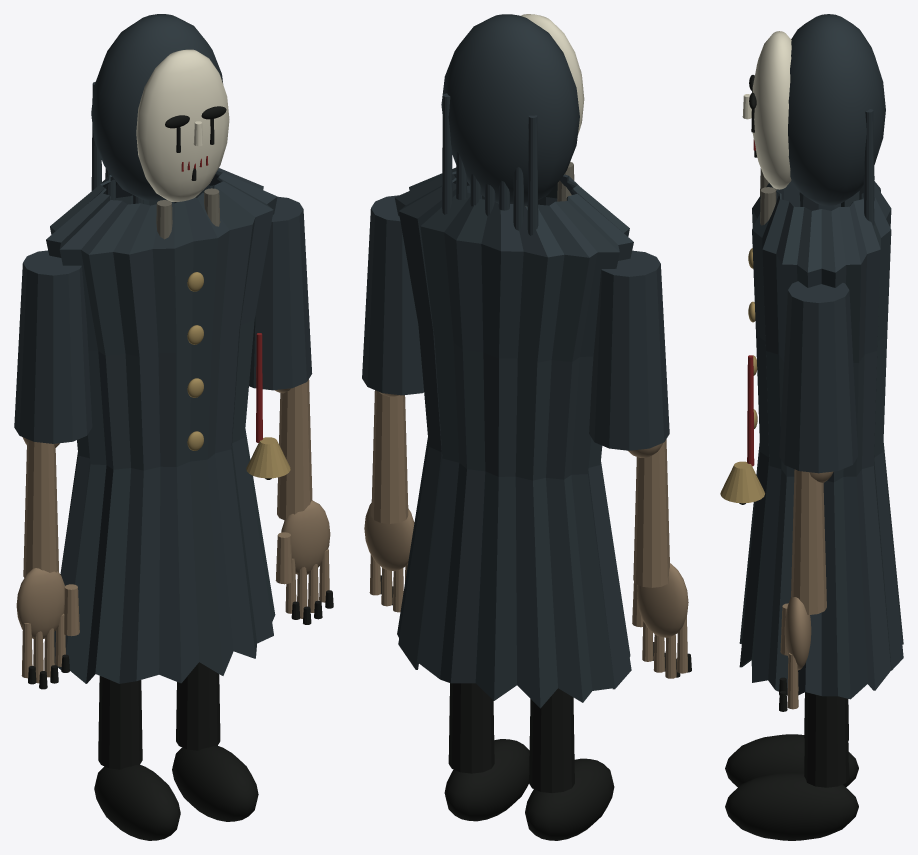
Rendered from attendance-warden.fbx.
The picture shows the model from 3 angles, left to right: view 1: azimuth 30°, elevation 25°; view 2: azimuth 150°, elevation 25°; view 3: azimuth 270°, elevation 25°; orthographic projection. The views are drawn at different scales.
Visible parts, largest first — view 1: Pleated mourning coat, Hanging sleeve, Long death mask, Hood, Hanging sleeve.001, Worn school shoe, Worn school shoe.001, Long forearm, Long forearm.001, Shin, Shin.001, Carved palm (+5 smaller); view 2: Pleated mourning coat, Hood, Hanging sleeve, Hanging sleeve.001, Worn school shoe, Long forearm, Worn school shoe.001, Long forearm.001, Shin, Shin.001, Carved palm, Carved palm.001 (+4 smaller); view 3: Pleated mourning coat, Hood, Hanging sleeve.001, Worn school shoe.001, Long death mask, Long forearm.001, Shin.001, Worn school shoe, Carved palm.001, Dismissal bell, Trailing hood cord.006, Bell cord (+2 smaller).
Boxes of the visible parts, bbox=[...] form: Pleated mourning coat: bbox=[46, 168, 277, 683]; Hanging sleeve: bbox=[14, 250, 92, 443]; Long death mask: bbox=[136, 49, 229, 201]; Hood: bbox=[91, 14, 222, 201]; Hanging sleeve.001: bbox=[249, 196, 312, 390]; Worn school shoe: bbox=[94, 765, 180, 840]; Worn school shoe.001: bbox=[172, 746, 258, 821]; Long forearm: bbox=[23, 440, 58, 577]; Long forearm.001: bbox=[277, 379, 312, 520]; Shin: bbox=[98, 676, 142, 769]; Shin.001: bbox=[176, 662, 220, 750]; Carved palm: bbox=[16, 568, 64, 638]; Pleated mourning coat: bbox=[394, 167, 633, 708]; Hood: bbox=[441, 14, 579, 206]; Hanging sleeve: bbox=[589, 250, 669, 450]; Hanging sleeve.001: bbox=[362, 195, 423, 395]; Worn school shoe: bbox=[525, 758, 614, 840]; Long forearm: bbox=[633, 439, 669, 587]; Worn school shoe.001: bbox=[444, 739, 529, 821]; Long forearm.001: bbox=[371, 390, 408, 523]; Shin: bbox=[529, 688, 574, 792]; Shin.001: bbox=[448, 683, 494, 773]; Carved palm: bbox=[637, 563, 688, 637]; Carved palm.001: bbox=[364, 503, 414, 571]; Pleated mourning coat: bbox=[739, 181, 903, 699]; Hood: bbox=[788, 14, 885, 205]; Hanging sleeve.001: bbox=[779, 281, 857, 473]; Worn school shoe.001: bbox=[725, 772, 858, 840]; Long death mask: bbox=[751, 31, 791, 189]; Long forearm.001: bbox=[791, 469, 826, 614]; Shin.001: bbox=[804, 692, 848, 787]; Worn school shoe: bbox=[725, 734, 858, 787]; Carved palm.001: bbox=[784, 597, 811, 670]; Dismissal bell: bbox=[720, 461, 764, 503]; Trailing hood cord.006: bbox=[864, 109, 874, 225]; Bell cord: bbox=[747, 355, 754, 466].
Size of the model in its own units: 0.924 by 2.24 by 0.4649.
